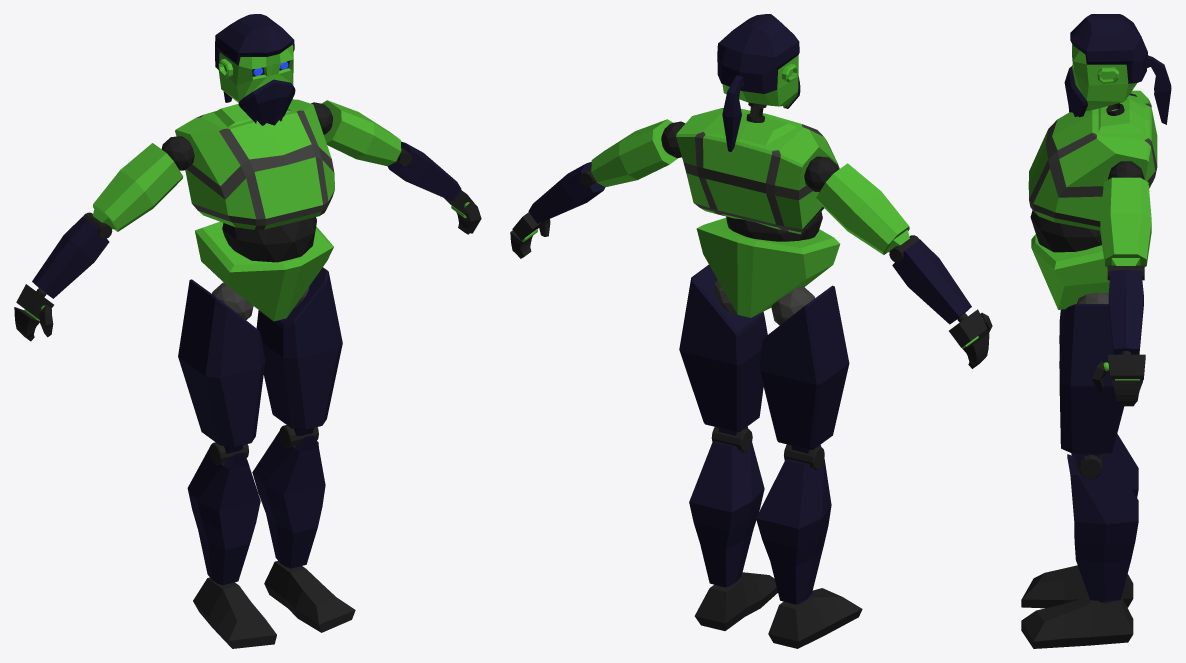
The model's file is eric.glb.
3 renders of one model, left to right at view 1: azimuth 30°, elevation 25°; view 2: azimuth 150°, elevation 25°; view 3: azimuth 270°, elevation 25°, orthographic. The views are drawn at different scales.
Parts seen in each view (by area): view 1: Eric Rigged.001; view 2: Eric Rigged.001; view 3: Eric Rigged.001.
Boxes of the visible parts, x1,y1,x2,y2 form: Eric Rigged.001: (14,14,481,648); Eric Rigged.001: (510,14,992,648); Eric Rigged.001: (1021,14,1171,648).
Bounding box in the file's own units: 1.45 × 1.8 × 0.4081.
